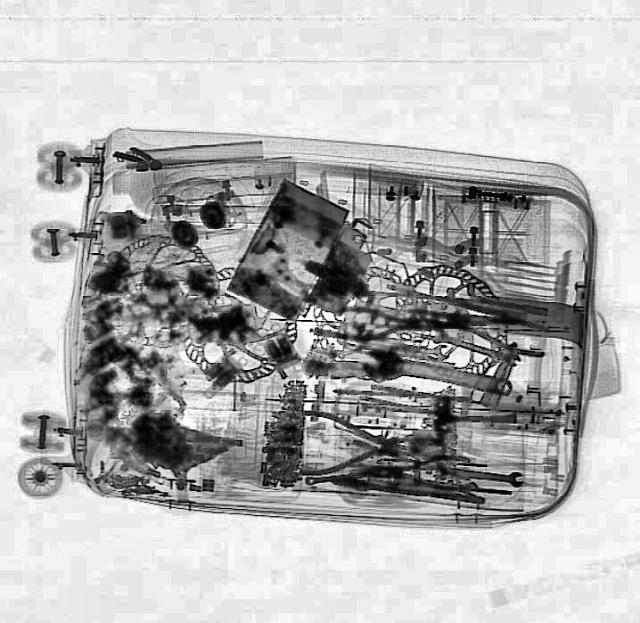Pliers: (293, 412, 409, 478)
Wrench: (358, 342, 516, 402), (425, 462, 523, 486)
